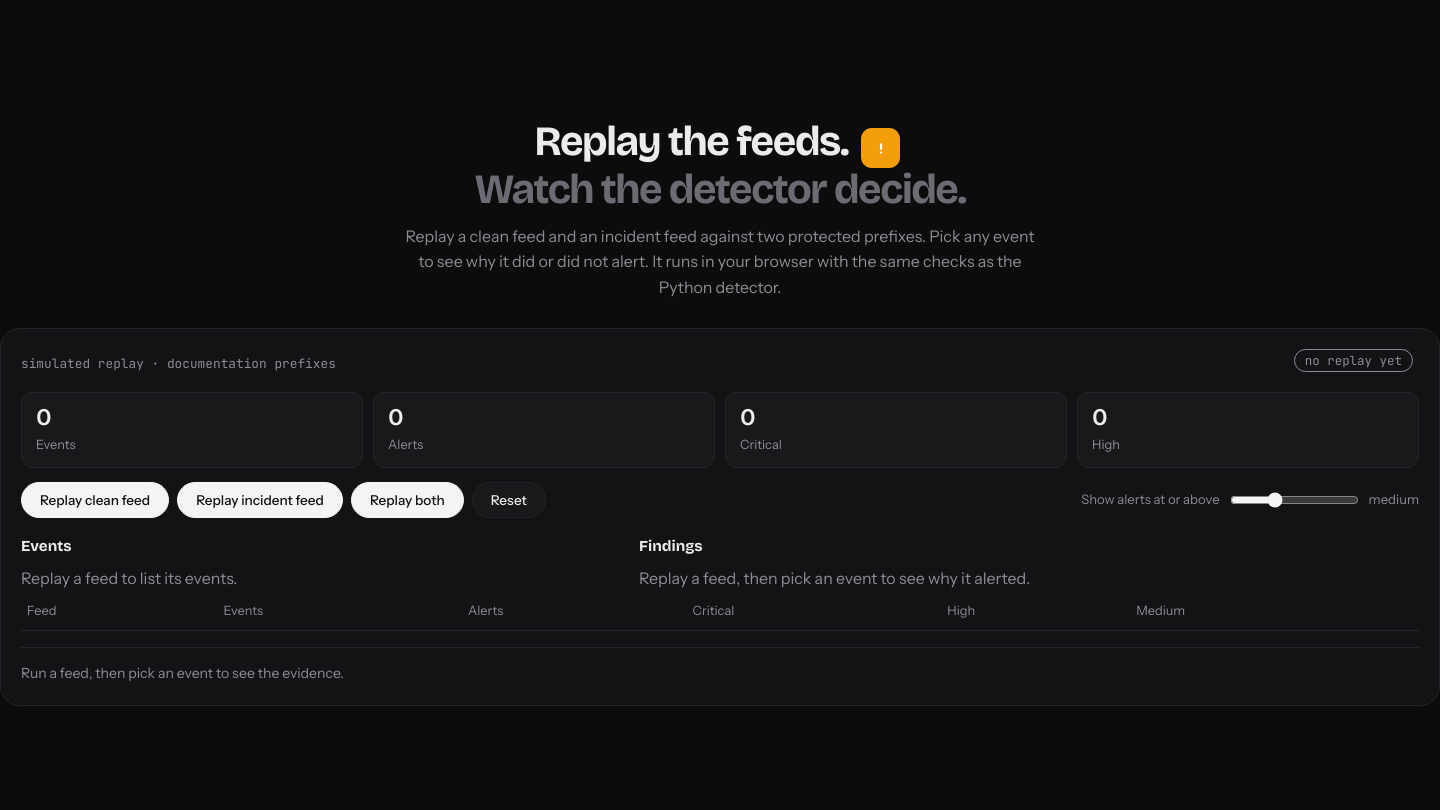
simulator › shows 0 alerts after replaying the clean feed
Click the button "Replay clean feed" at [95, 500], box [21, 482, 169, 518]
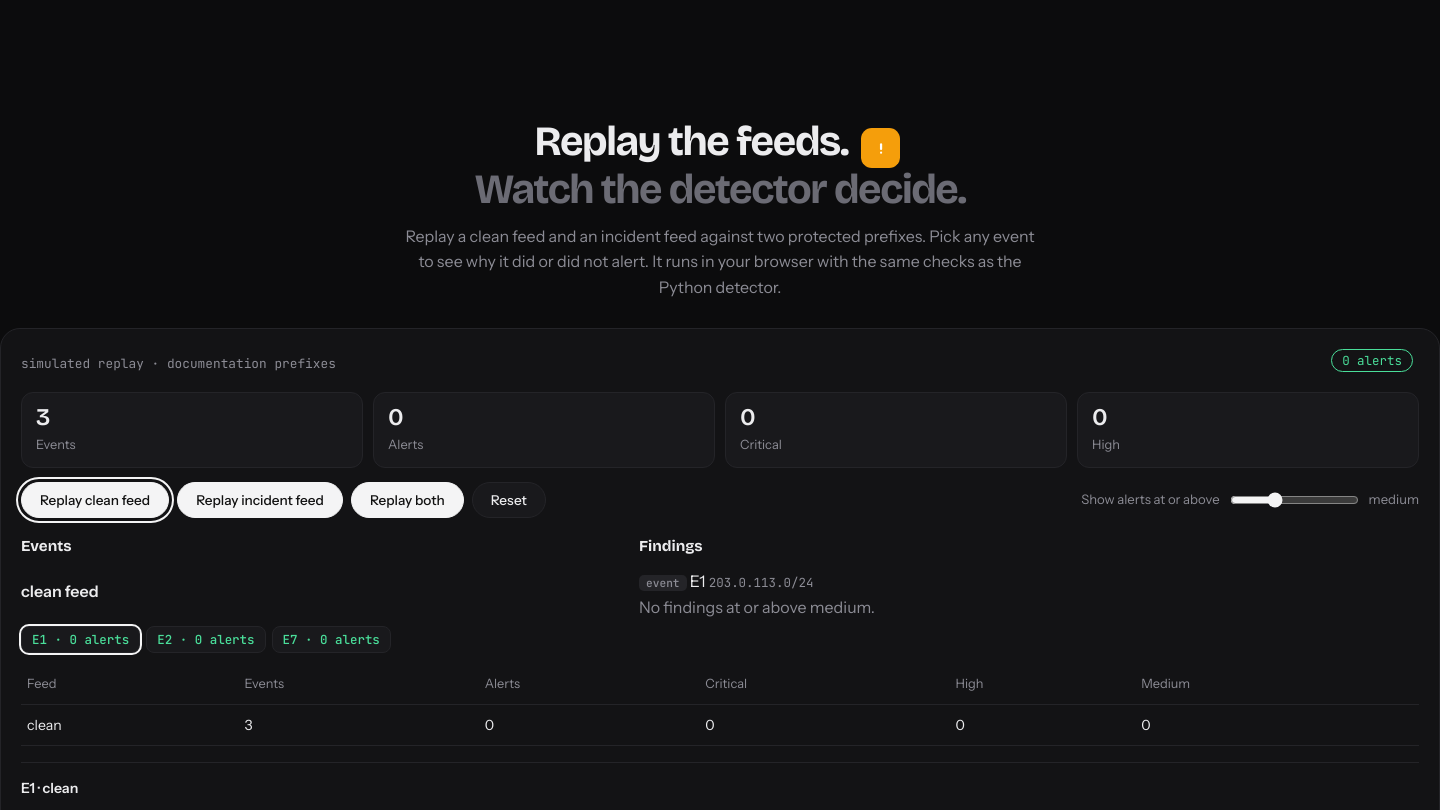
Result: the text "0 alerts" is shown at [1331, 349, 1413, 372]
